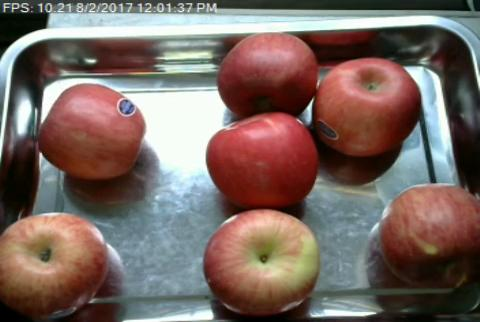apple: (203, 207, 320, 315), (0, 211, 108, 322), (205, 111, 319, 209), (378, 182, 479, 288), (39, 82, 146, 181), (314, 58, 422, 156), (217, 33, 315, 110)
